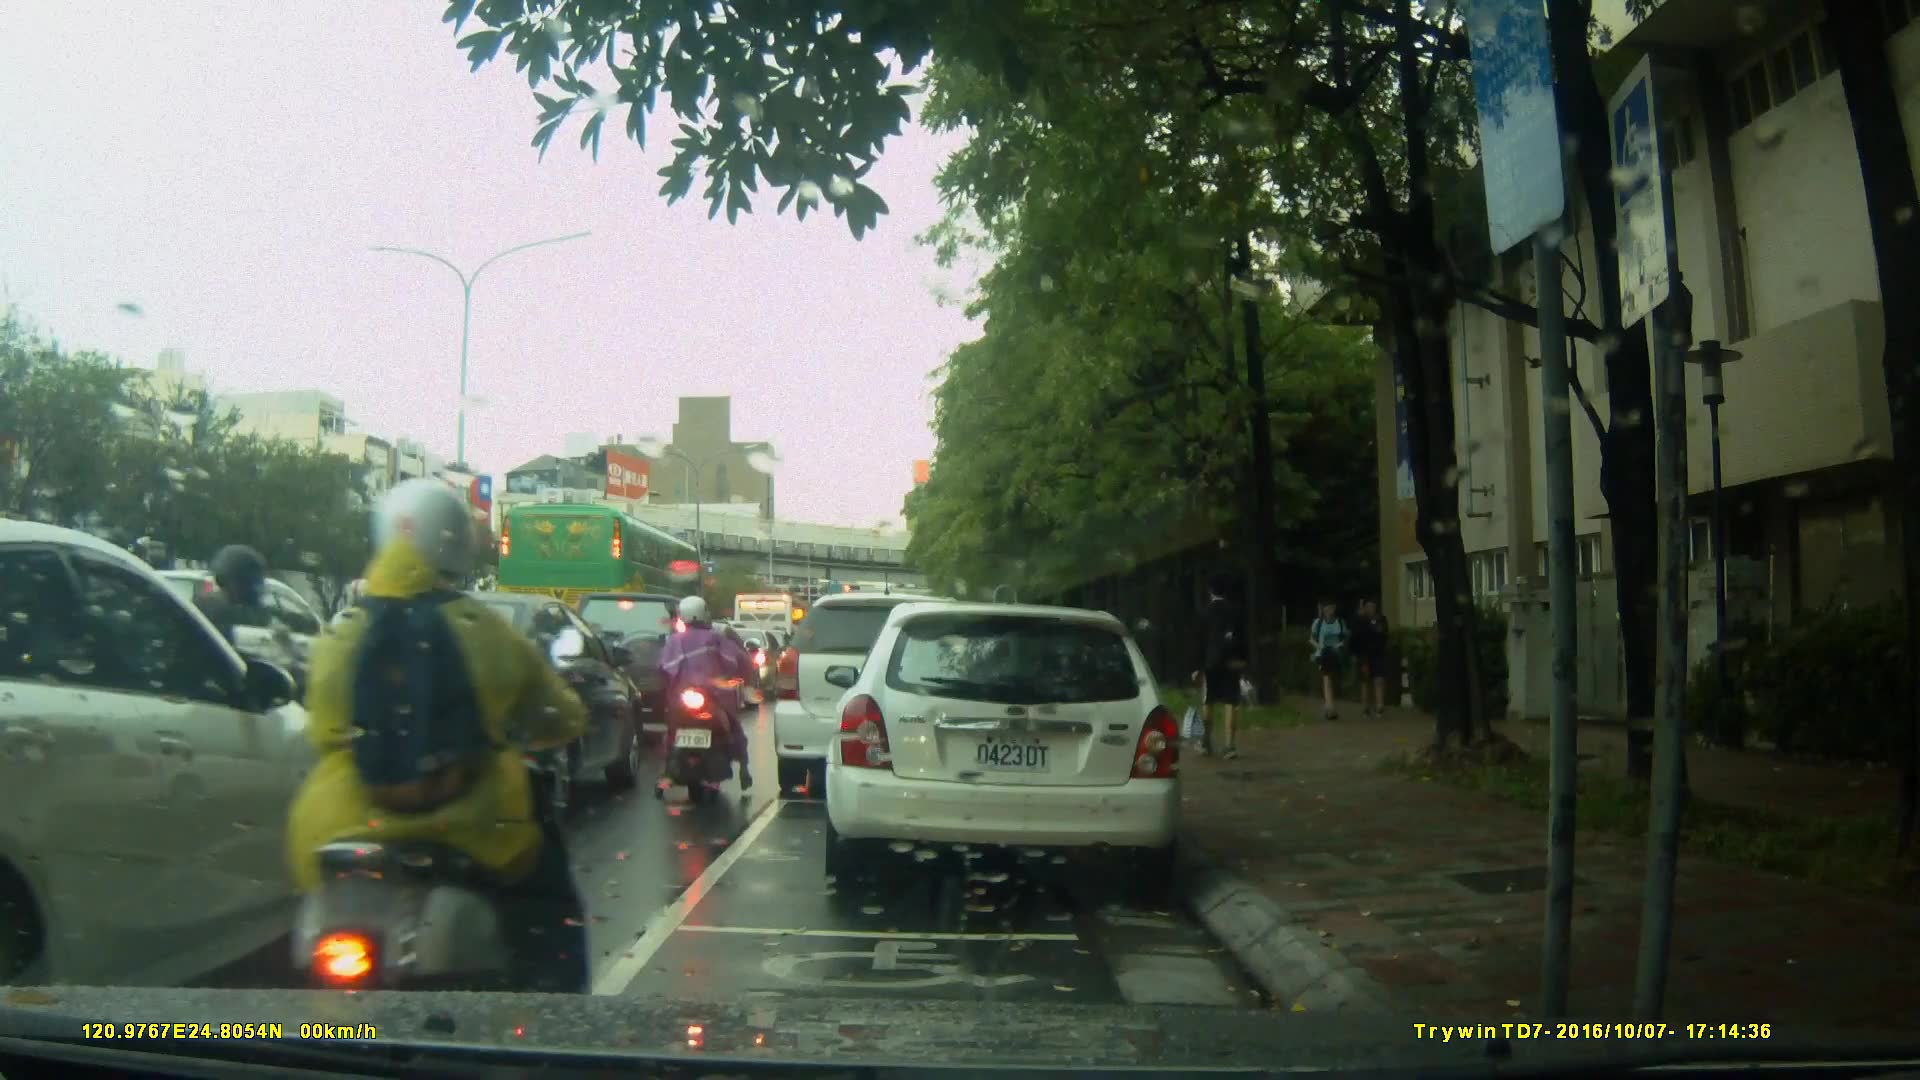pedestrian: (1185, 573, 1253, 762), (1309, 590, 1364, 725), (1347, 593, 1387, 719)
rider: (293, 474, 591, 1057), (660, 592, 756, 799), (310, 575, 401, 744)
vehicle: (1, 519, 373, 985), (831, 592, 1196, 897), (280, 589, 646, 818), (35, 568, 360, 757), (770, 592, 999, 800), (557, 582, 749, 751), (495, 502, 707, 643)
